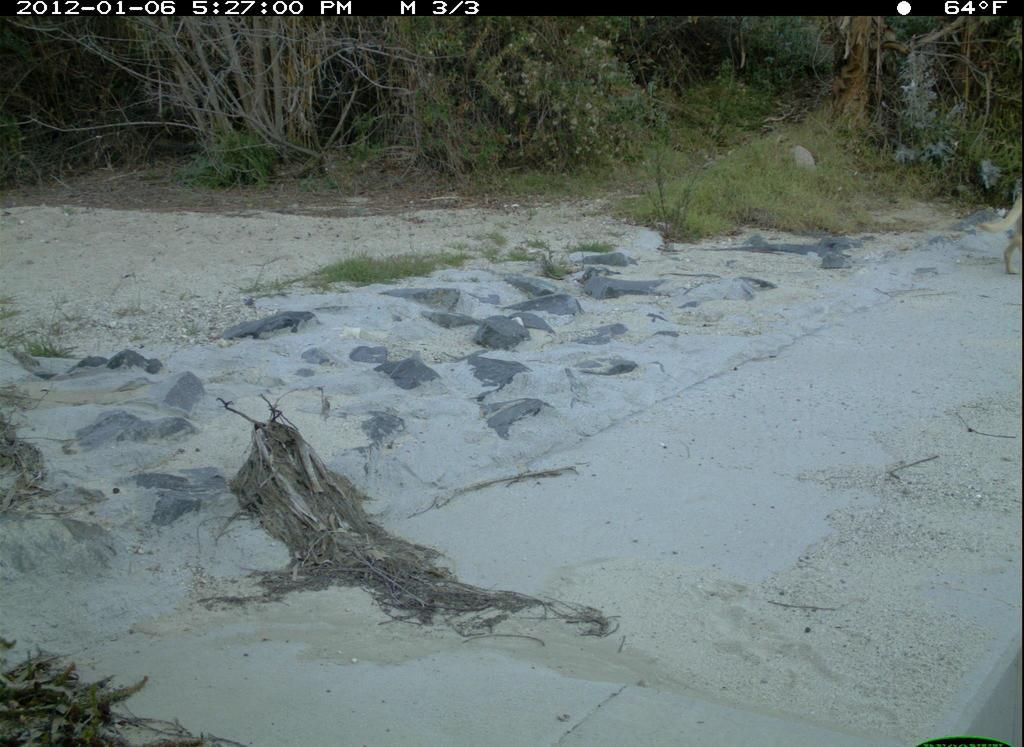dog: (955, 177, 1023, 274)
